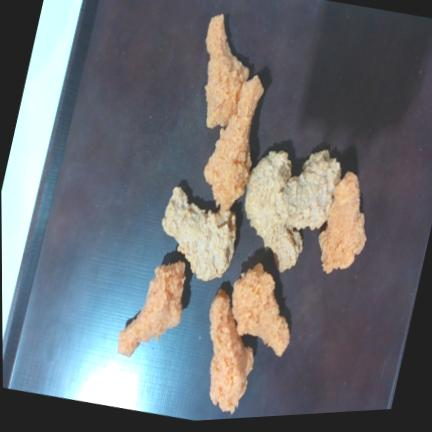chicken: (204, 75, 263, 210), (162, 186, 236, 281), (245, 151, 302, 271), (118, 261, 185, 357), (232, 263, 290, 356), (210, 289, 253, 413), (205, 15, 249, 128), (319, 172, 366, 273), (285, 150, 341, 229)
